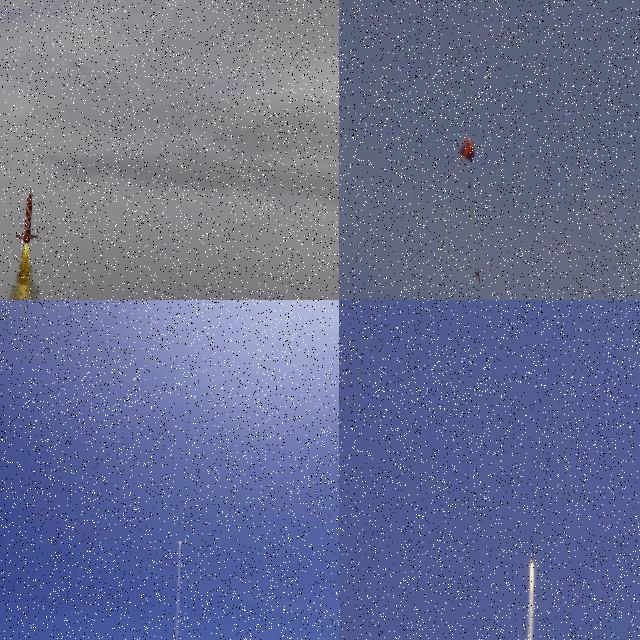Rocket: (15, 185, 39, 244), (531, 537, 534, 564), (179, 539, 182, 541)
